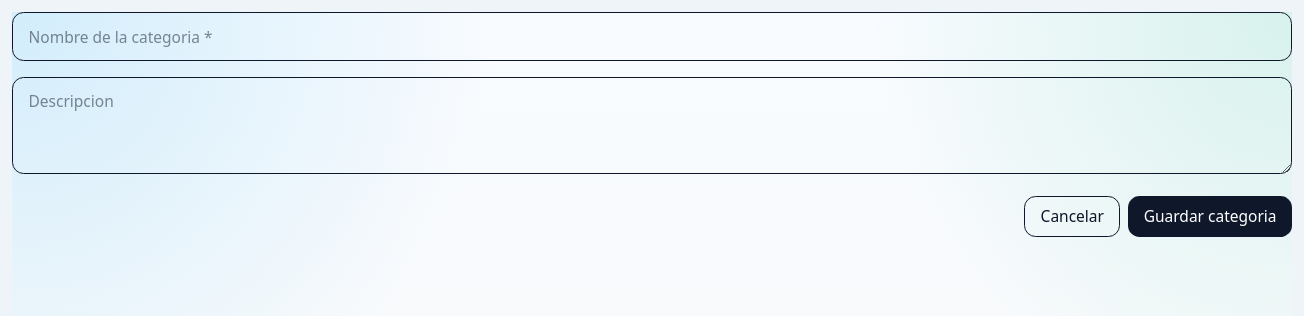
CategoriaForm › valida que el nombre sea obligatorio
Click the button "Guardar categoria" at {"x": 1210, "y": 216}, box [1128,196,1292,237]
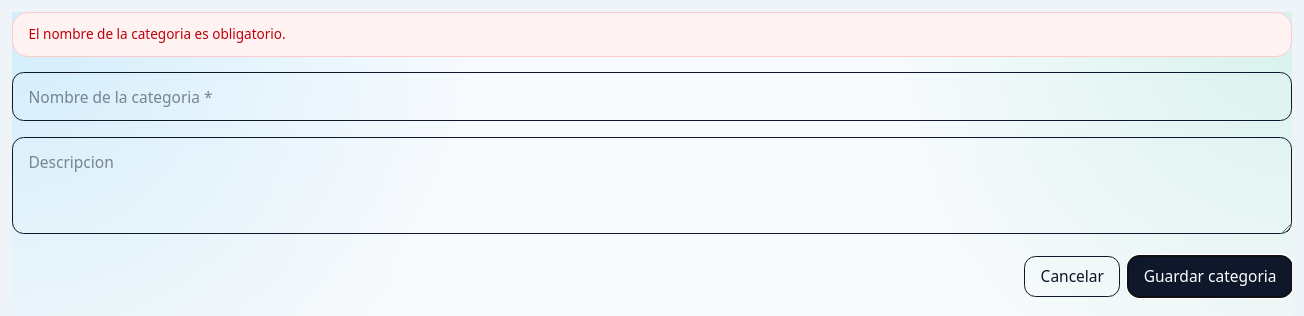
Expected: the text "El nombre de la categoria es obligatorio." is shown, [12,12,1292,57]
